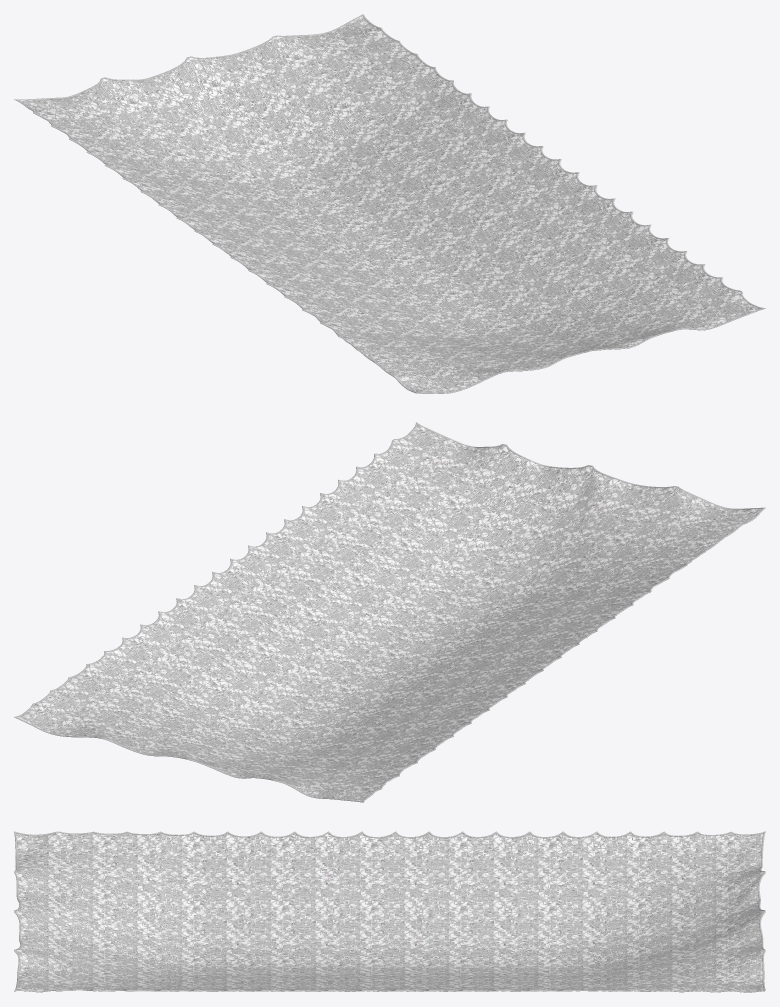
The model's file is FILET.glb.
3 renders of one model, top to bottom at view 1: azimuth 30°, elevation 25°; view 2: azimuth 150°, elevation 25°; view 3: azimuth 270°, elevation 25°, orthographic. The views are drawn at different scales.
Parts seen in each view (by area): view 1: _(Loose Entity), C-bord filet; view 2: _(Loose Entity), C-bord filet; view 3: _(Loose Entity), C-bord filet.
Part boxes in pixels (<box>): _(Loose Entity): <box>19,16,761,392</box>; C-bord filet: <box>14,14,765,393</box>; _(Loose Entity): <box>17,425,761,801</box>; C-bord filet: <box>14,422,765,802</box>; _(Loose Entity): <box>16,832,763,991</box>; C-bord filet: <box>14,831,765,992</box>.
Size of the model in its own units: 3.02 by 0.4178 by 6.02.
2 materials, 1 textured.
